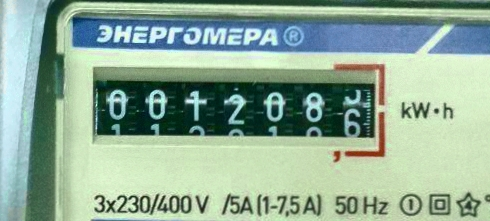0: (262, 87, 287, 122), (145, 83, 168, 120), (107, 84, 127, 121)
1: (186, 85, 203, 122)
2: (223, 90, 249, 125)
6: (340, 103, 363, 138)
8: (301, 88, 324, 124)
screen: (82, 53, 395, 172)
